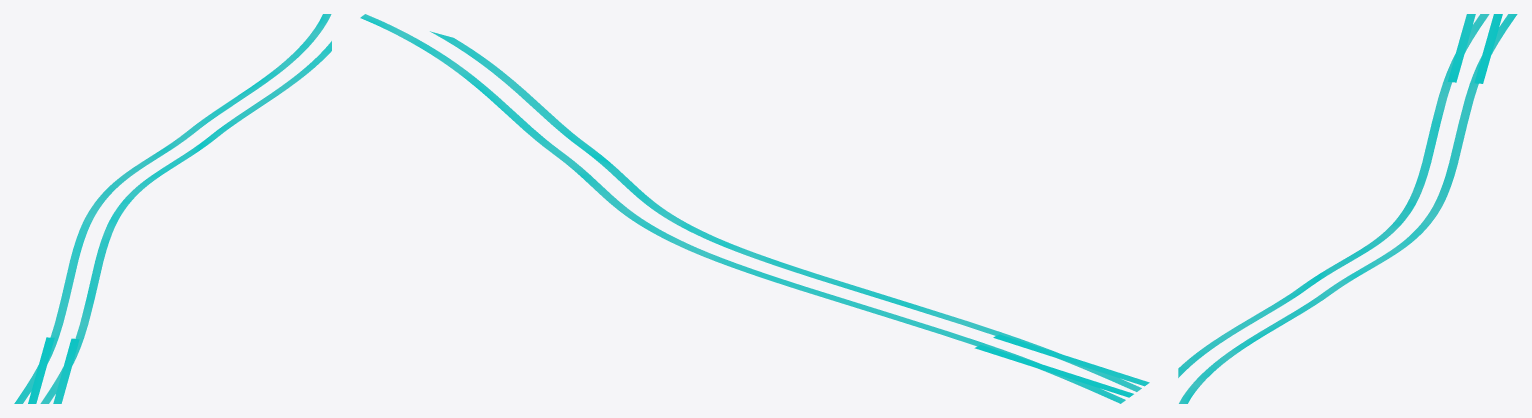
3 renders of one model, left to right at view 1: azimuth 90°, elevation 25°; view 2: azimuth 150°, elevation 25°; view 3: azimuth 270°, elevation 25°, orthographic. The views are drawn at different scales.
Parts seen in each view (by area): view 1: SpaceCenter_Long3_GenerateRoad_Sand_TireTracks_Narrow_Mesh_x; view 2: SpaceCenter_Long3_GenerateRoad_Sand_TireTracks_Narrow_Mesh_x; view 3: SpaceCenter_Long3_GenerateRoad_Sand_TireTracks_Narrow_Mesh_x.
Part boxes in pixels (box(x1,y1,x2,y2)): SpaceCenter_Long3_GenerateRoad_Sand_TireTracks_Narrow_Mesh_x: box(14, 14, 331, 403); SpaceCenter_Long3_GenerateRoad_Sand_TireTracks_Narrow_Mesh_x: box(360, 14, 1149, 403); SpaceCenter_Long3_GenerateRoad_Sand_TireTracks_Narrow_Mesh_x: box(1178, 14, 1517, 403).
Bounding box in the file's own units: 820 × 2304 × 35.44.
